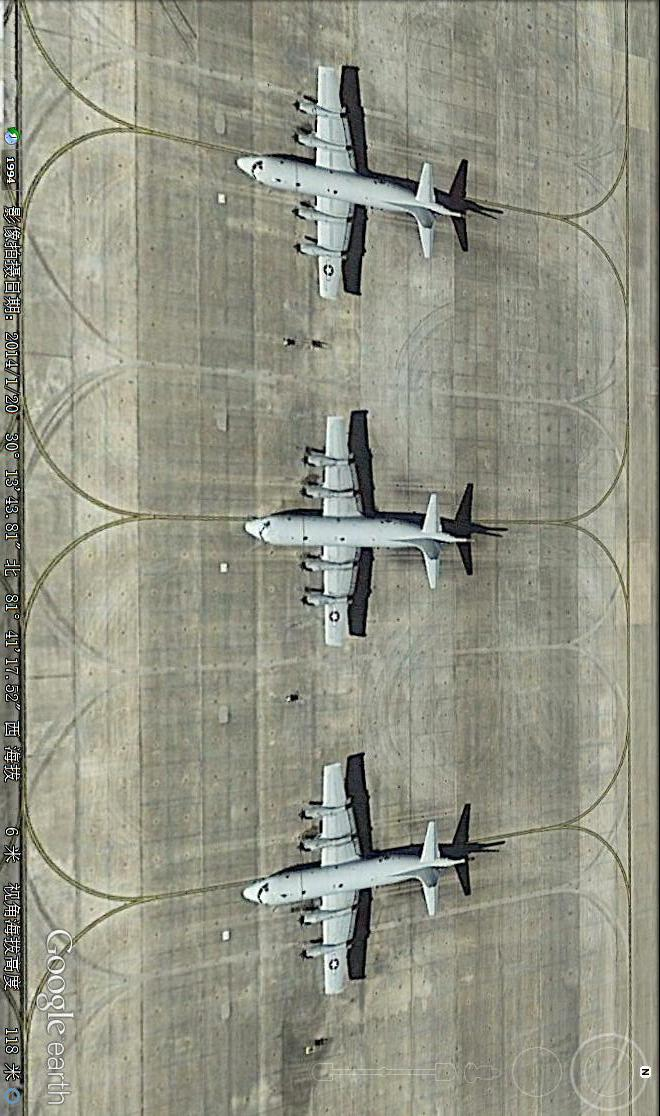P-3C: (242, 403, 476, 656), (235, 752, 470, 997), (234, 56, 463, 307)
